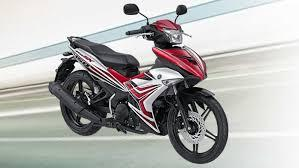motorcycle: (44, 1, 231, 165)
